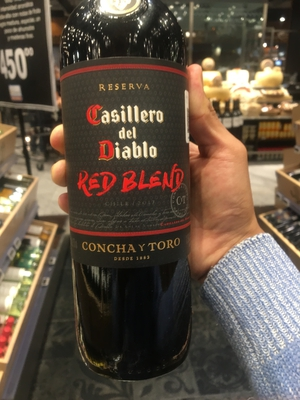casillero del diablo red blend: (53, 4, 214, 371)
